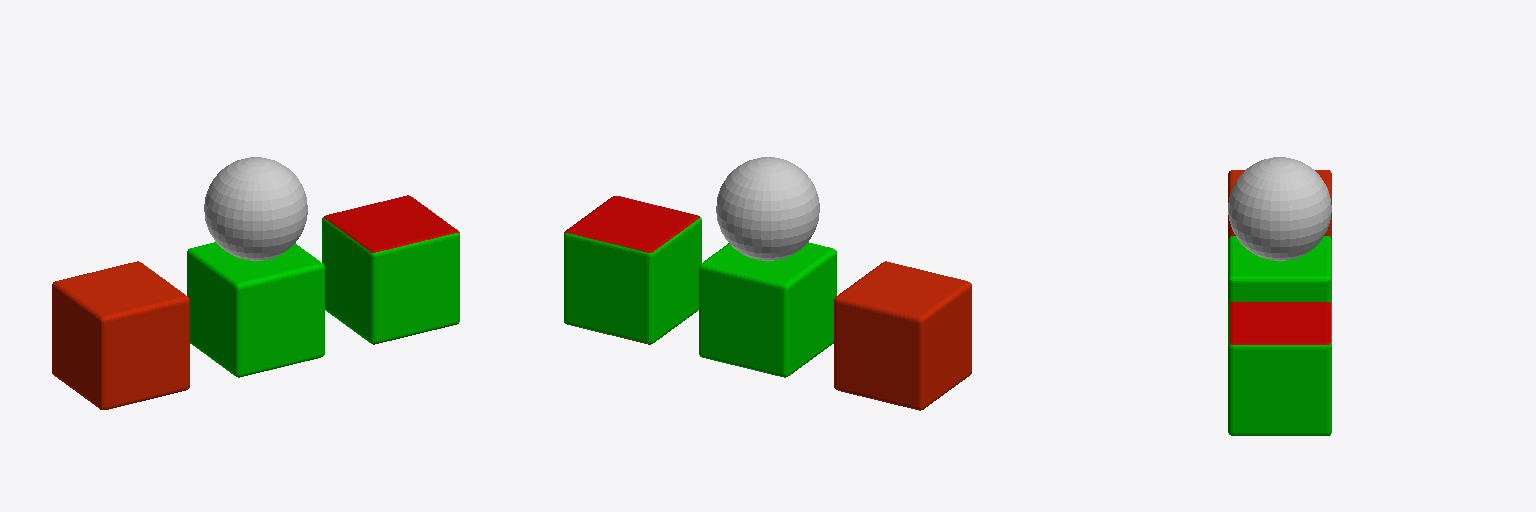
The model's file is multi-cube-material.obj.
The picture shows the model from 3 angles: view 1: azimuth 30°, elevation 25°; view 2: azimuth 150°, elevation 25°; view 3: azimuth 270°, elevation 25°; orthographic projection.
Parts seen in each view (by area): view 1: Cube.000_cube-double, Cube.002_cube-unique, Sphere; view 2: Cube.000_cube-double, Cube.002_cube-unique, Sphere; view 3: Cube.000_cube-double, Sphere, Cube.002_cube-unique.
Boxes of the visible parts, x1=… form: Cube.000_cube-double: x1=187, y1=195, x2=459, y2=377; Cube.002_cube-unique: x1=52, y1=261, x2=189, y2=409; Sphere: x1=204, y1=157, x2=307, y2=260; Cube.000_cube-double: x1=564, y1=196, x2=836, y2=377; Cube.002_cube-unique: x1=834, y1=261, x2=971, y2=410; Sphere: x1=716, y1=157, x2=819, y2=260; Cube.000_cube-double: x1=1228, y1=236, x2=1331, y2=435; Sphere: x1=1228, y1=157, x2=1331, y2=260; Cube.002_cube-unique: x1=1228, y1=170, x2=1331, y2=238.
Bounding box in the file's own units: 8 × 3.99 × 2.